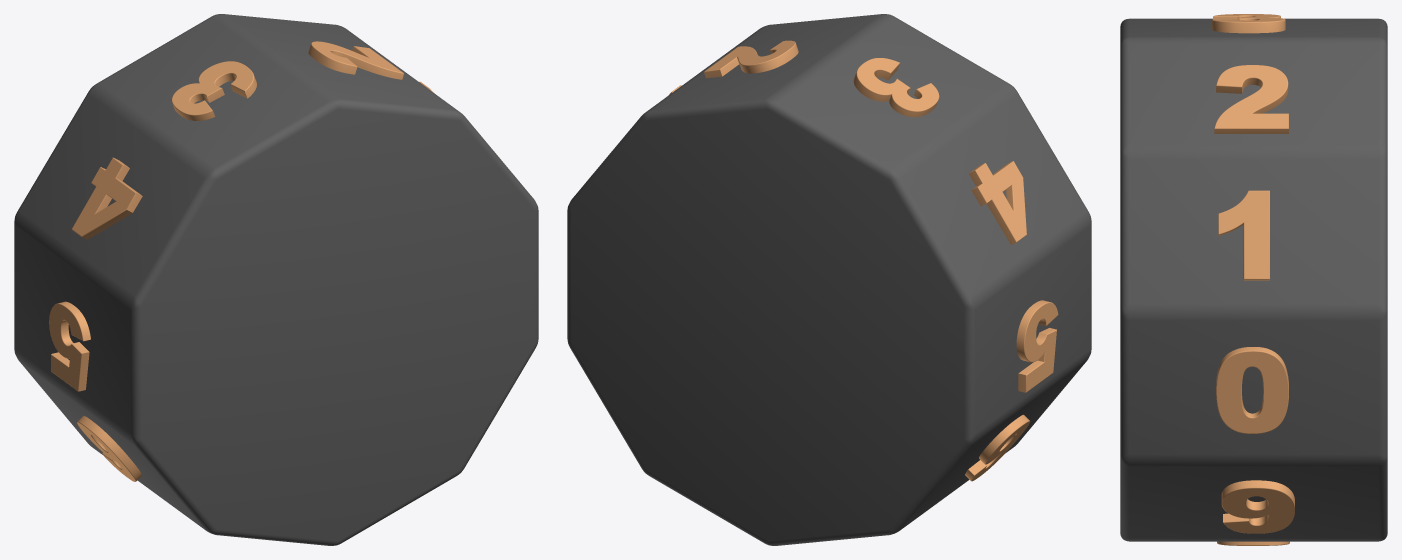
File: Dial.fbx
3 renders of one model, left to right at view 1: azimuth 30°, elevation 25°; view 2: azimuth 150°, elevation 25°; view 3: azimuth 270°, elevation 25°, orthographic. The views are drawn at different scales.
Visible parts, largest first — view 1: ClockFace; view 2: ClockFace; view 3: ClockFace.
Part boxes in pixels (x1,y1,x2,y2): ClockFace: (14,14,538,545); ClockFace: (567,14,1091,545); ClockFace: (1120,14,1387,545).
Size of the model in its own units: 59.26 by 59.89 by 30.
